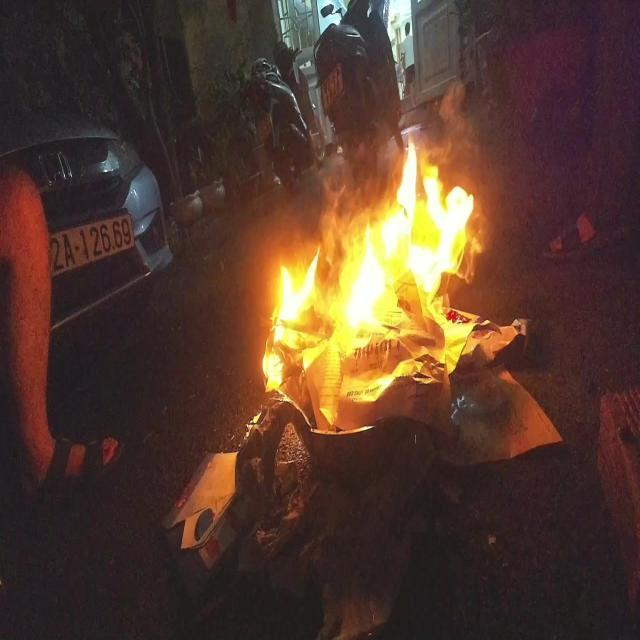Fire: (261, 128, 474, 388)
Smoke: (442, 80, 507, 188)
